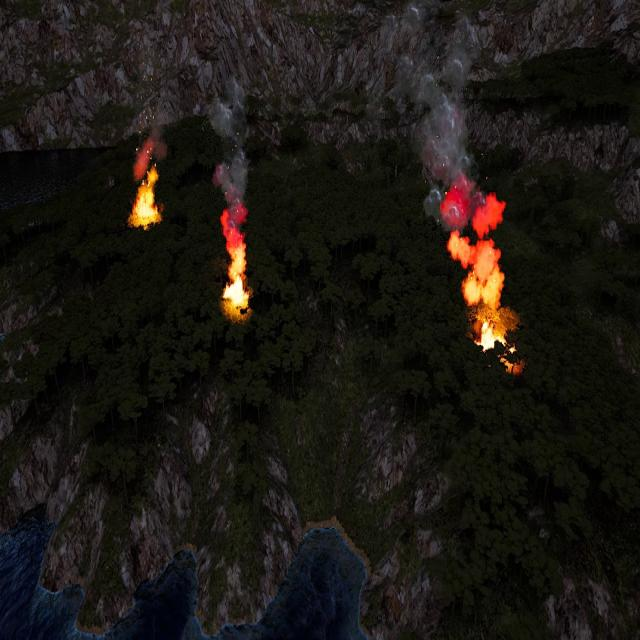fire: (444, 188, 518, 352), (130, 167, 160, 224), (219, 276, 256, 318)
smoke: (391, 6, 482, 222), (208, 77, 260, 271), (133, 100, 164, 172)
